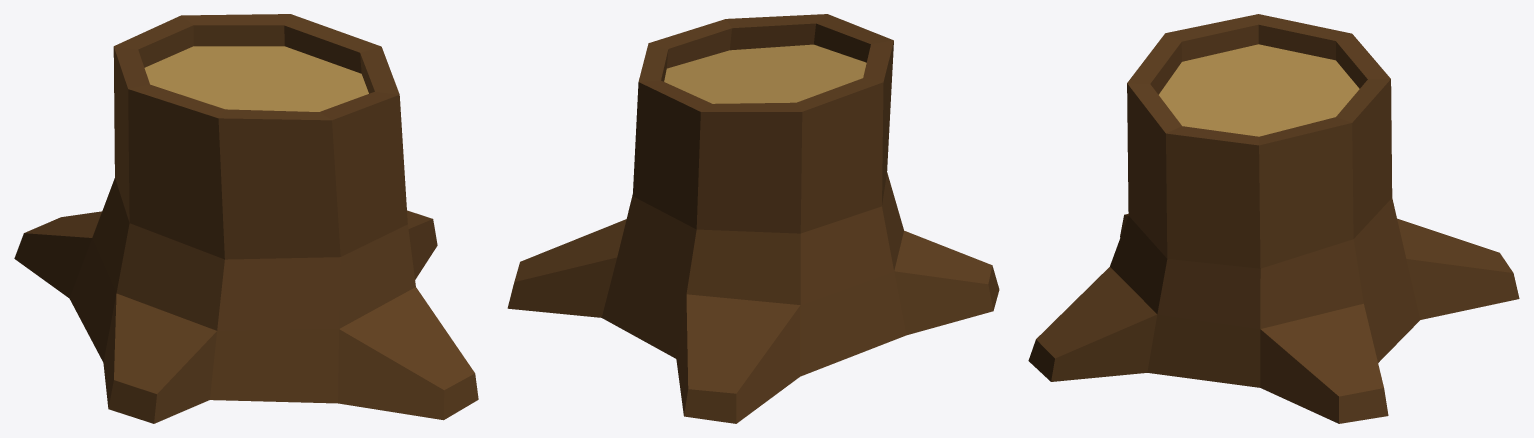
Rendered from stump.glb.
3 views of the same model, side by side, from view 1: azimuth 30°, elevation 25°; view 2: azimuth 150°, elevation 25°; view 3: azimuth 270°, elevation 25° (orthographic). The views are drawn at different scales.
Visible parts, largest first — view 1: Stump1; view 2: Stump1; view 3: Stump1.
Part boxes in pixels (x1=…): Stump1: x1=14, y1=14, x2=478, y2=423; Stump1: x1=507, y1=14, x2=999, y2=423; Stump1: x1=1028, y1=14, x2=1519, y2=423.
Bounding box in the file's own units: 1.04 × 0.6717 × 1.14.
